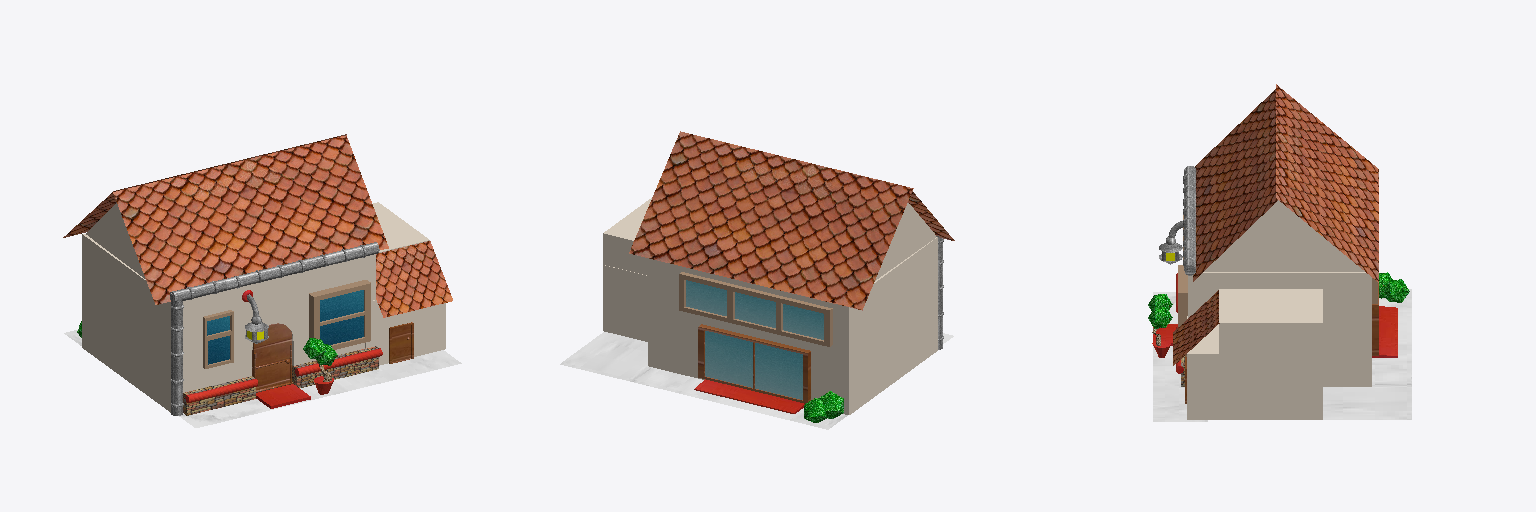
3 views of the same model, side by side, from view 1: azimuth 30°, elevation 25°; view 2: azimuth 150°, elevation 25°; view 3: azimuth 270°, elevation 25° (orthographic).
Parts seen in each view (by area): view 1: garage1 polySurface12, garage1 polySurface3, garage1 polySurface17, garage1 polySurface4, garage1 polySurface32, polySurface1 garage1, garage1 polySurface41, garage1 polySurface50, garage1 polySurface19, garage1 polySurface13, garage1 polySurface16, garage1 polySurface5 (+8 smaller); view 2: garage1 polySurface15, garage1 polySurface3, garage1 polySurface37, garage1 polySurface54, garage1 polySurface55, polySurface1 garage1, garage1 polySurface20, garage1 polySurface16, garage1 polySurface13, garage1 polySurface21, garage1 polySurface38, garage1 polySurface12 (+1 smaller); view 3: garage1 polySurface15, garage1 polySurface12, garage1 polySurface16, garage1 polySurface3, polySurface1 garage1, garage1 polySurface14, garage1 polySurface37, garage1 polySurface32, garage1 polySurface17, garage1 polySurface4, garage1 polySurface38, garage1 polySurface19.
Part boxes in pixels (left/top/right/bottom): garage1 polySurface12: left=113, top=135, right=388, bottom=304; garage1 polySurface3: left=82, top=234, right=375, bottom=412; garage1 polySurface17: left=376, top=241, right=452, bottom=317; garage1 polySurface4: left=170, top=242, right=379, bottom=415; garage1 polySurface32: left=179, top=350, right=461, bottom=427; polySurface1 garage1: left=365, top=300, right=445, bottom=365; garage1 polySurface41: left=252, top=323, right=291, bottom=389; garage1 polySurface50: left=320, top=290, right=363, bottom=344; garage1 polySurface19: left=309, top=280, right=370, bottom=349; garage1 polySurface13: left=86, top=203, right=144, bottom=278; garage1 polySurface16: left=373, top=202, right=429, bottom=252; garage1 polySurface5: left=183, top=376, right=255, bottom=415; garage1 polySurface15: left=629, top=131, right=913, bottom=310; garage1 polySurface3: left=648, top=237, right=937, bottom=414; garage1 polySurface37: left=560, top=332, right=847, bottom=429; garage1 polySurface54: left=705, top=331, right=802, bottom=399; garage1 polySurface55: left=686, top=280, right=823, bottom=339; polySurface1 garage1: left=603, top=265, right=647, bottom=341; garage1 polySurface20: left=679, top=272, right=832, bottom=346; garage1 polySurface16: left=603, top=198, right=651, bottom=275; garage1 polySurface13: left=875, top=203, right=935, bottom=280; garage1 polySurface21: left=698, top=324, right=810, bottom=403; garage1 polySurface38: left=694, top=379, right=804, bottom=413; garage1 polySurface12: left=908, top=191, right=954, bottom=240; garage1 polySurface15: left=1276, top=84, right=1378, bottom=282; garage1 polySurface12: left=1193, top=89, right=1277, bottom=281; garage1 polySurface16: left=1219, top=289, right=1322, bottom=372; garage1 polySurface3: left=1188, top=272, right=1371, bottom=386; polySurface1 garage1: left=1187, top=316, right=1322, bottom=419; garage1 polySurface14: left=1204, top=200, right=1364, bottom=271; garage1 polySurface37: left=1323, top=289, right=1411, bottom=419; garage1 polySurface32: left=1153, top=292, right=1207, bottom=421; garage1 polySurface17: left=1173, top=290, right=1219, bottom=365; garage1 polySurface4: left=1183, top=166, right=1195, bottom=275; garage1 polySurface38: left=1372, top=306, right=1397, bottom=357; garage1 polySurface19: left=1178, top=265, right=1187, bottom=326.
Size of the model in its own units: 17.82 by 12 by 14.19.
15 materials, 12 textured.